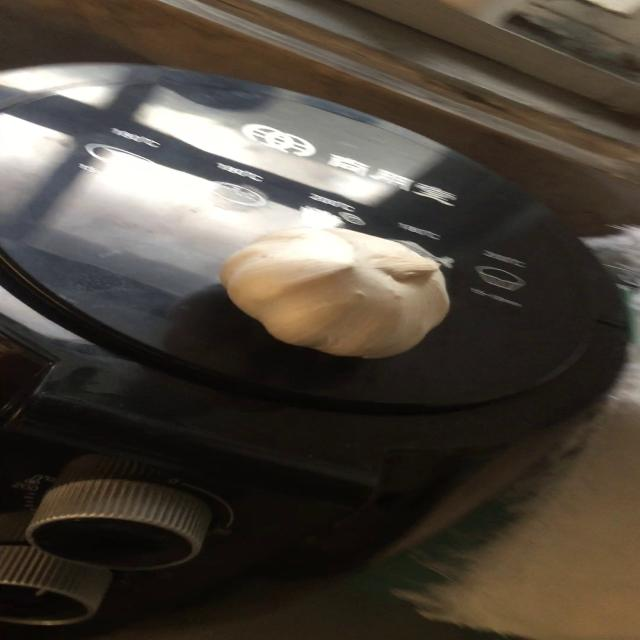garlic: (215, 227, 457, 357)
